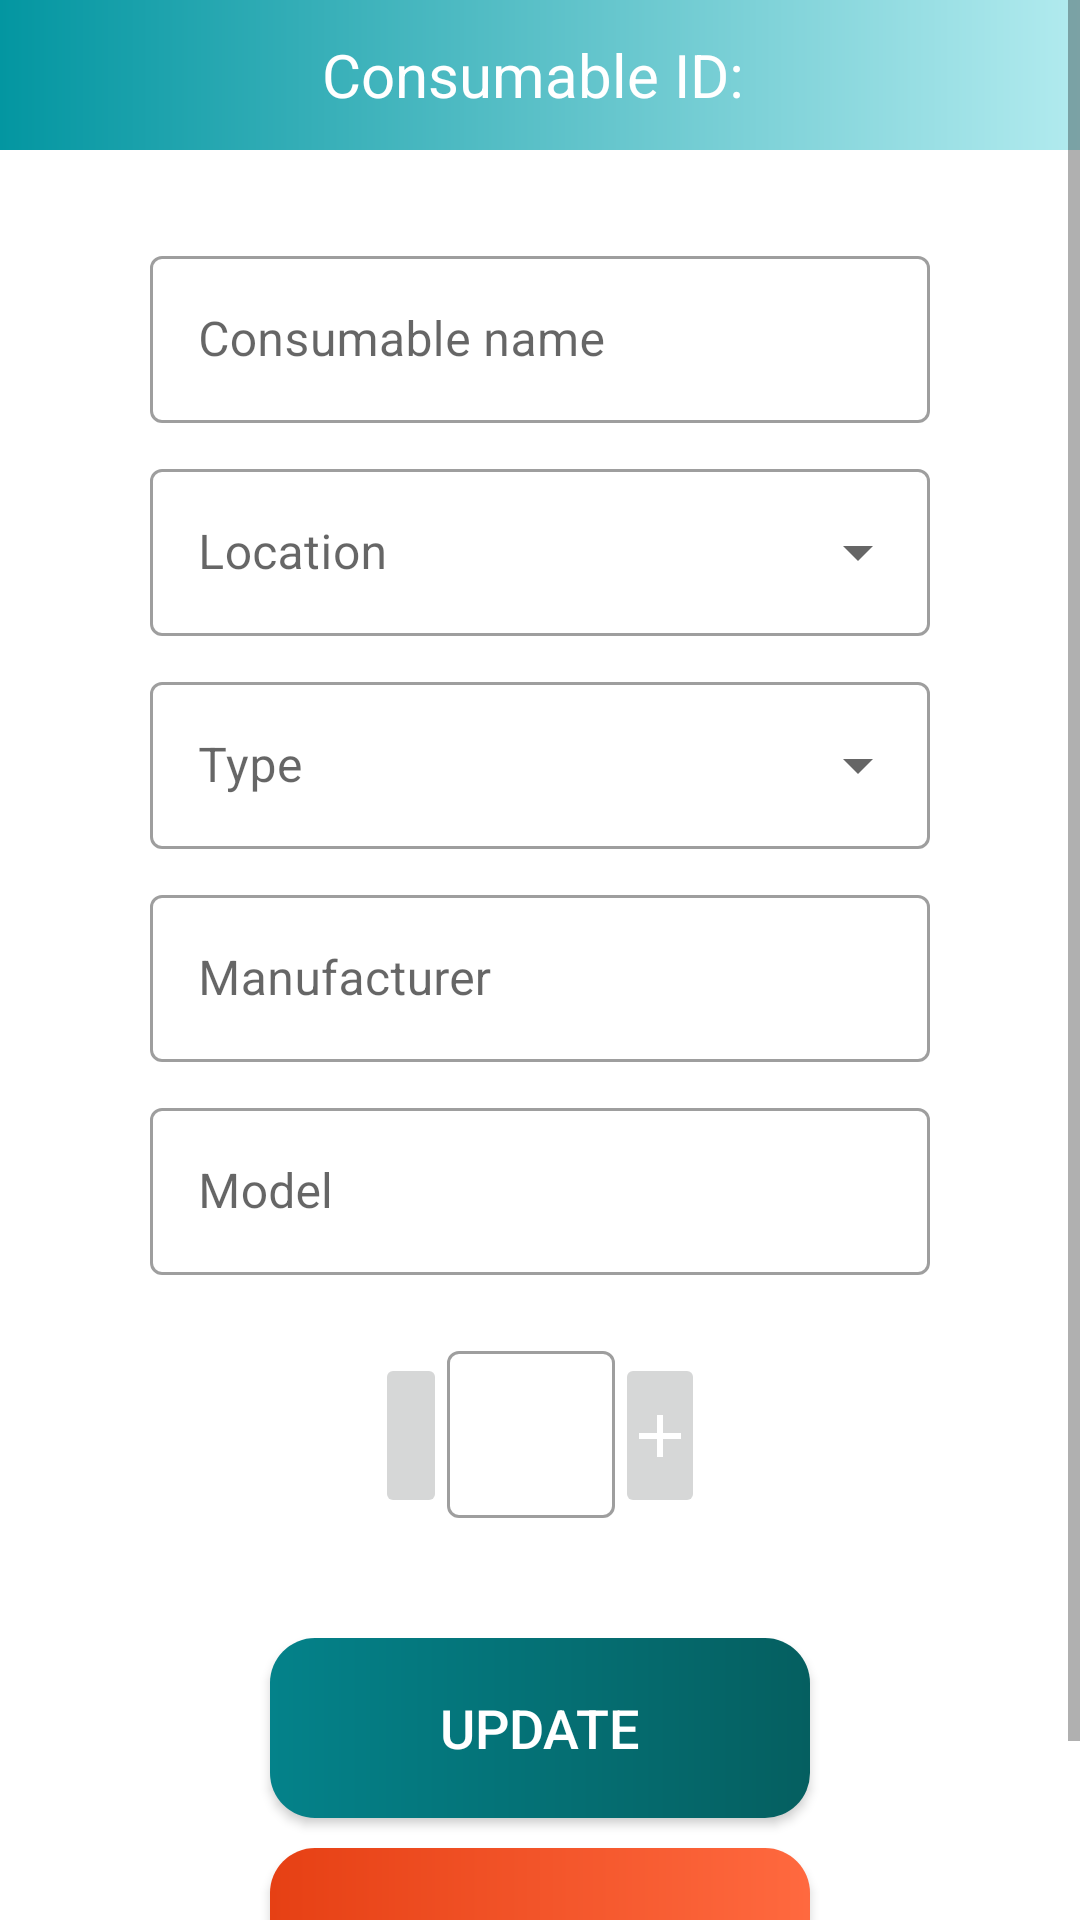

Icon click points for this 1080w x 1920h phone screenshot, format (x,y):
add: (660,1435)
